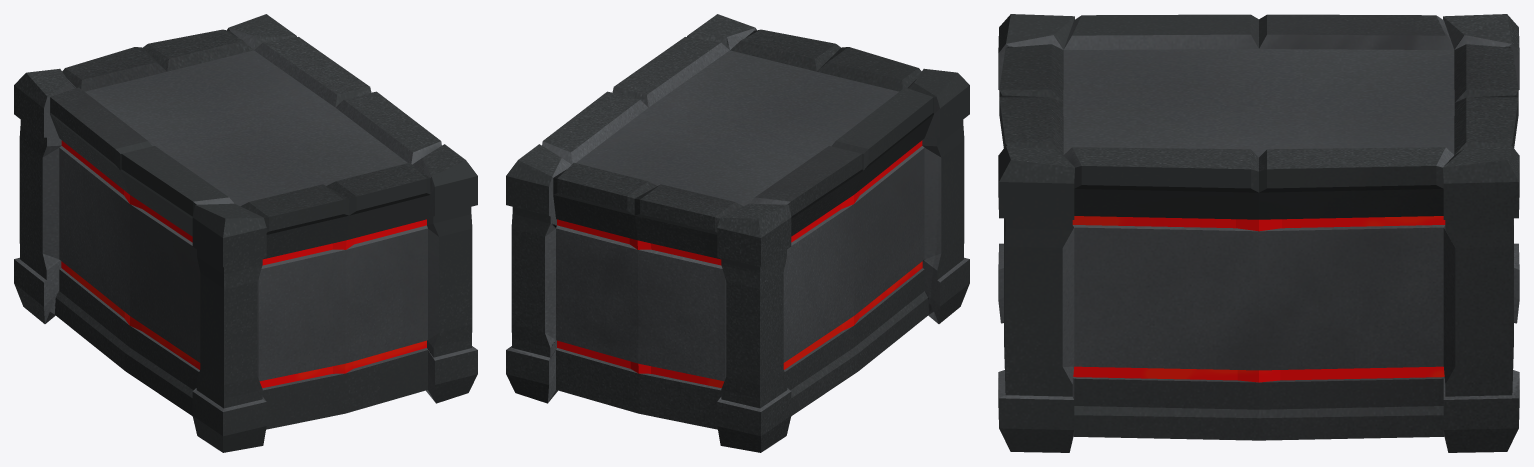
The model's file is Box1redmesh (1).fbx.
3 views of the same model, side by side, from view 1: azimuth 30°, elevation 25°; view 2: azimuth 150°, elevation 25°; view 3: azimuth 270°, elevation 25° (orthographic). The views are drawn at different scales.
Parts seen in each view (by area): view 1: Cube; view 2: Cube; view 3: Cube.
Part boxes in pixels (x1,y1,x2,y2): Cube: [14, 14, 477, 452]; Cube: [506, 14, 969, 452]; Cube: [998, 14, 1519, 452].
Size of the model in its own units: 204 by 178 by 289.
Materials: 1 (1 with a texture image).
